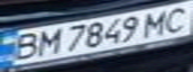4: (103, 16, 127, 46)
7: (63, 21, 87, 52)
8: (84, 19, 109, 49)
9: (118, 12, 145, 43)
B: (3, 29, 45, 62)
C: (157, 2, 193, 34)
M: (136, 8, 175, 37), (33, 27, 63, 57)
